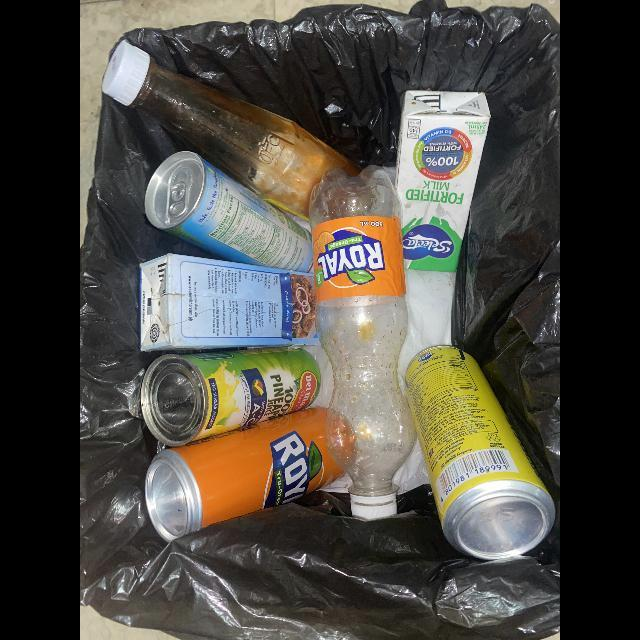aluminum: (404, 345, 557, 563), (144, 409, 356, 543), (143, 151, 313, 276), (140, 347, 321, 448)
glass_bottle: (101, 40, 363, 221)
plastic_bottle: (310, 167, 415, 523)
